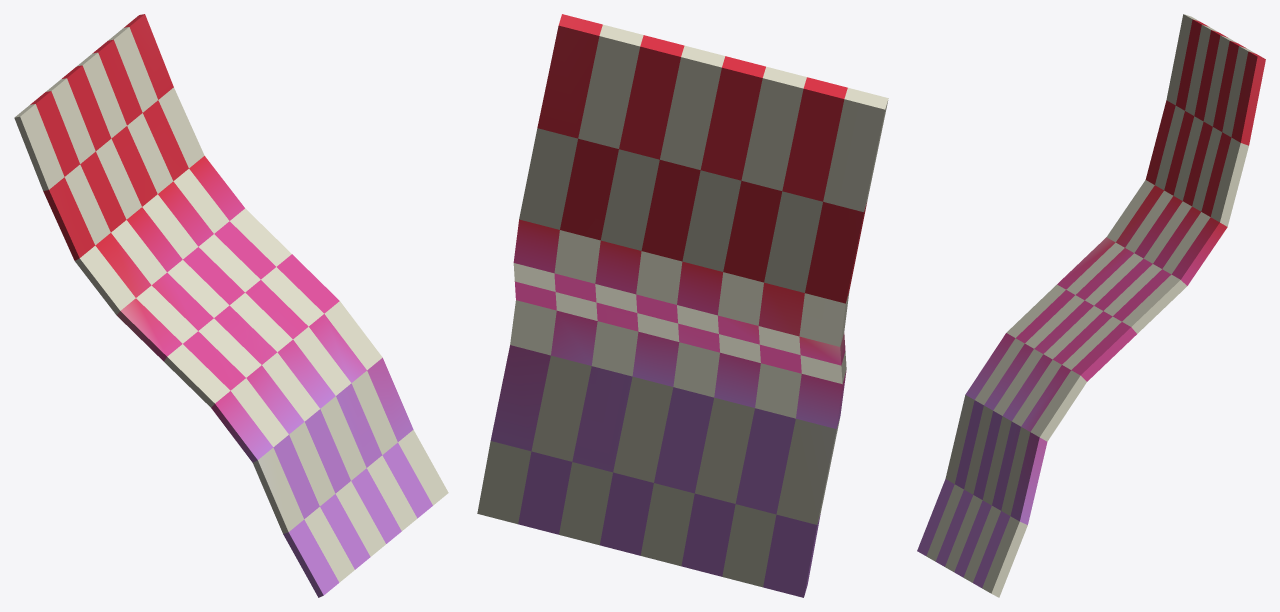
The model's file is vc_diorama_002a.fbx.
3 views of the same model, side by side, from view 1: azimuth 30°, elevation 25°; view 2: azimuth 150°, elevation 25°; view 3: azimuth 270°, elevation 25° (orthographic). The views are drawn at different scales.
Parts seen in each view (by area): view 1: Plane; view 2: Plane; view 3: Plane.
Boxes of the visible parts, left/top/right/bottom form: Plane: left=14, top=14, right=448, bottom=597; Plane: left=477, top=14, right=888, bottom=597; Plane: left=917, top=14, right=1265, bottom=597.
Size of the model in its own units: 193 by 256 by 165.
